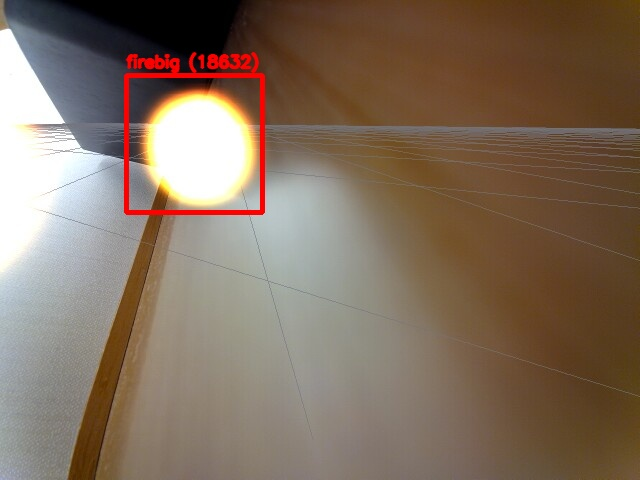firebig: (126, 75, 262, 212)
